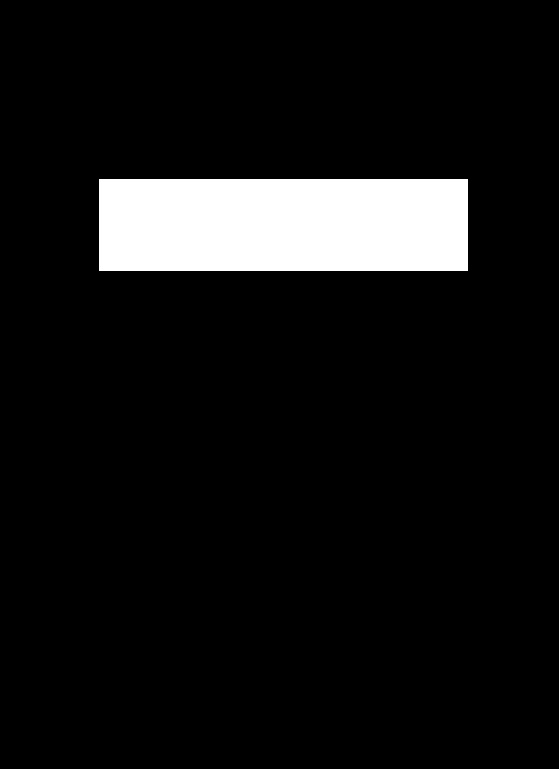table: (99, 179, 467, 270)
